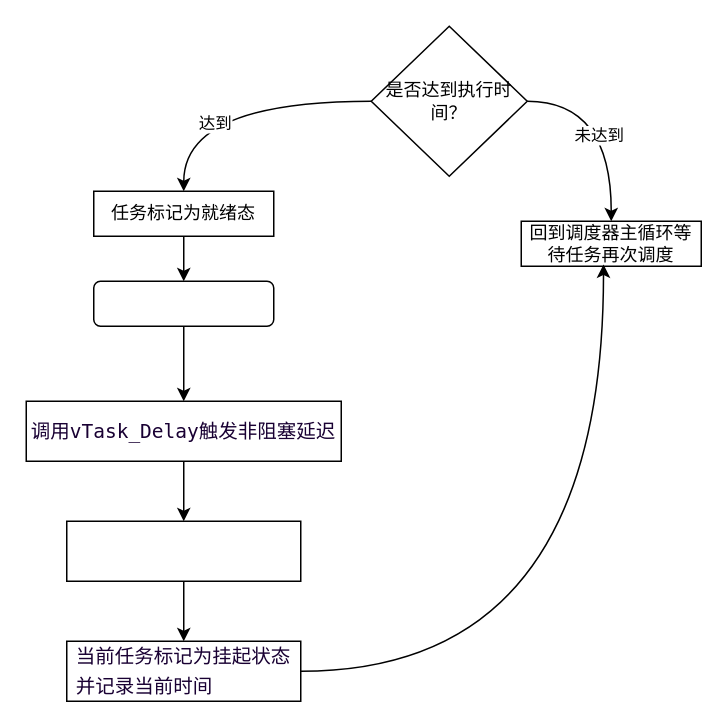
Some shapes in this 728 by 728 pixel diagram are drawn without their labels. Here are the shapes that lost their labels. From the top down, the centre of each, then its label:
At [183,303]: "任务标记为运行态".
At [183,550]: "执行当前轮询的任务内容".
